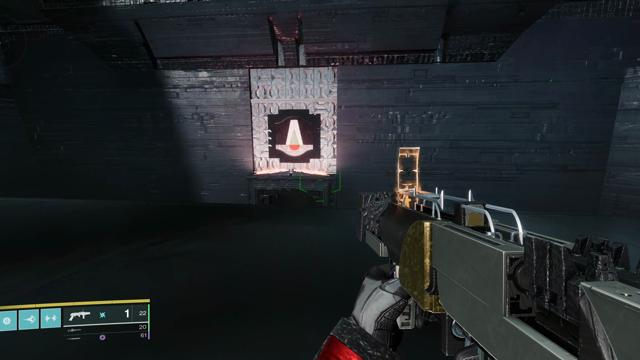enter: (275, 116, 314, 157)
